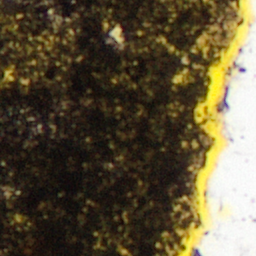cement_matrix: (0, 0, 235, 255), (111, 28, 121, 41), (199, 37, 207, 47), (178, 75, 183, 79)
cracks: (173, 0, 248, 255)
gravel_crushed_stones: (196, 0, 255, 255), (112, 29, 120, 40), (200, 38, 206, 46), (179, 76, 182, 78)
